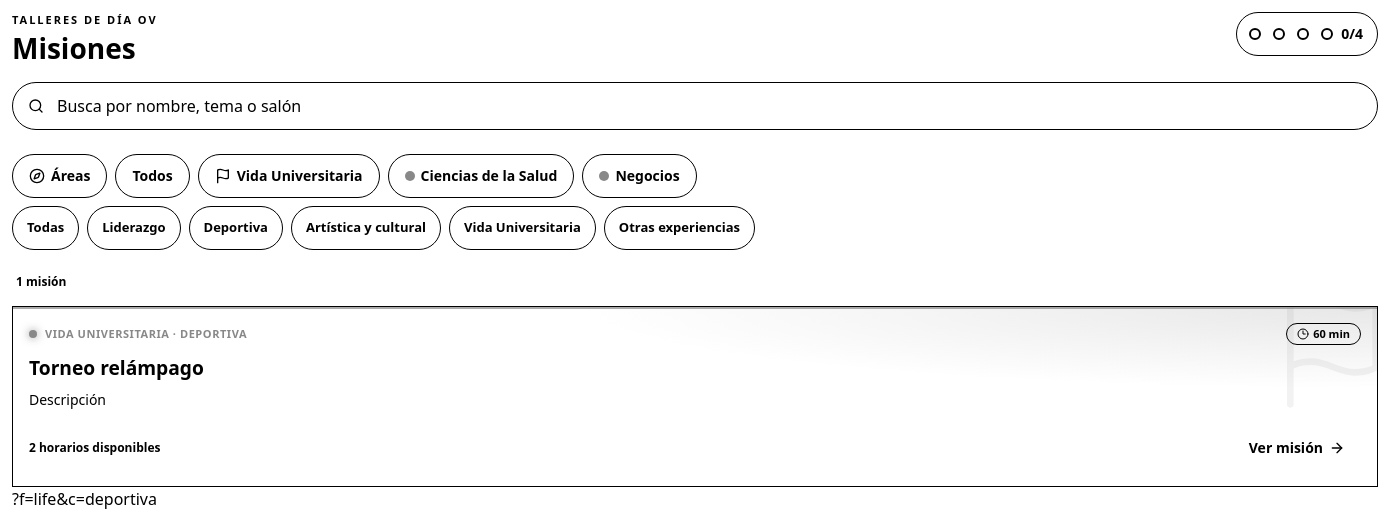
the filter lives in the URL, so a link or the back button restores it
Expected: the element named "Filtrar misiones" is shown, x1=12 y1=154 x2=697 y2=198
Click the button "Liderazgo": (134, 228) x1=87 y1=206 x2=180 y2=250
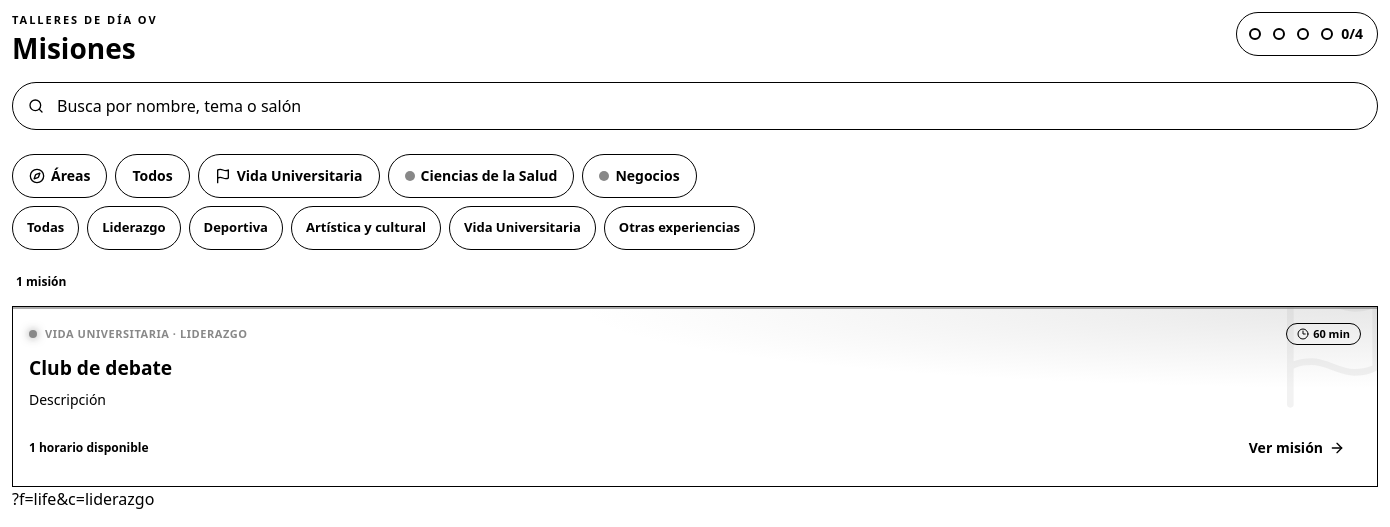
Result: the text named "url" reads "?f=life&c=liderazgo" at x1=12 y1=488 x2=154 y2=510
Click the button "Ciencias de la Salud": (481, 176) x1=388 y1=154 x2=574 y2=198
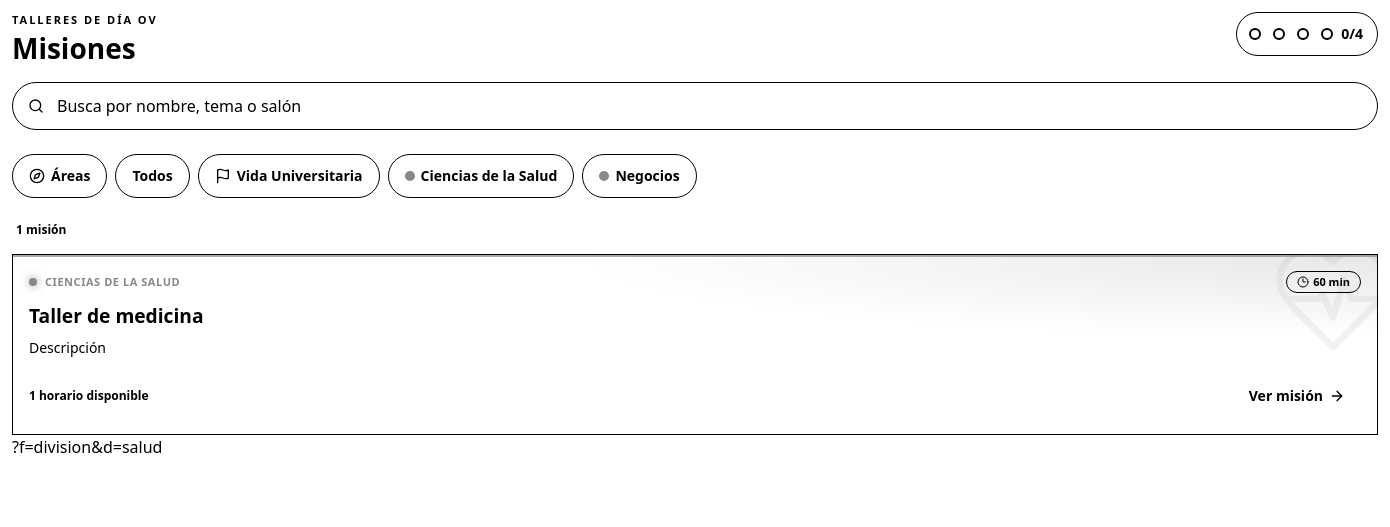
Result: the text named "url" reads "?f=division&d=salud" at x1=12 y1=436 x2=162 y2=458
